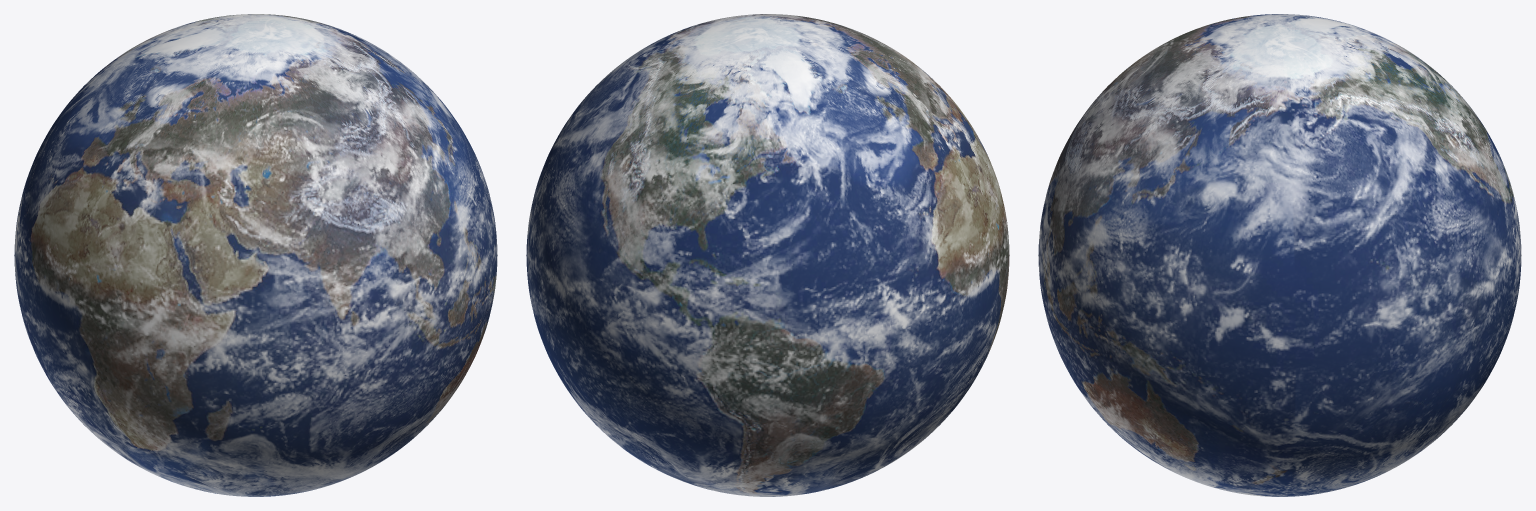
File: earth.glb
3 renders of one model, left to right at view 1: azimuth 30°, elevation 25°; view 2: azimuth 150°, elevation 25°; view 3: azimuth 270°, elevation 25°, orthographic.
Visible parts, largest first — view 1: node_id30_1; view 2: node_id30_1; view 3: node_id30_1.
Boxes of the visible parts, x1=… form: node_id30_1: x1=14, y1=14, x2=497, y2=496; node_id30_1: x1=526, y1=14, x2=1009, y2=496; node_id30_1: x1=1038, y1=14, x2=1521, y2=496.
Bounding box in the file's own units: 0.512 × 0.512 × 0.512.
Materials: 1 (1 with a texture image).
